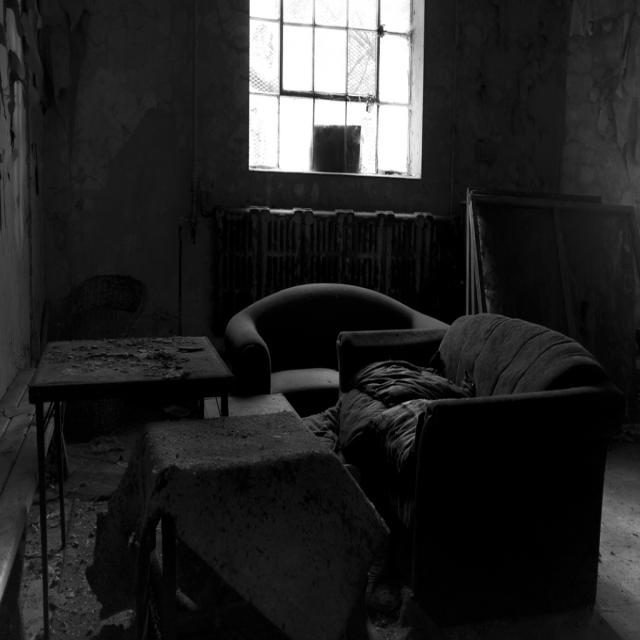Table: (8, 308, 230, 640), (140, 410, 381, 640)
chair: (332, 270, 622, 640), (230, 272, 438, 411)
